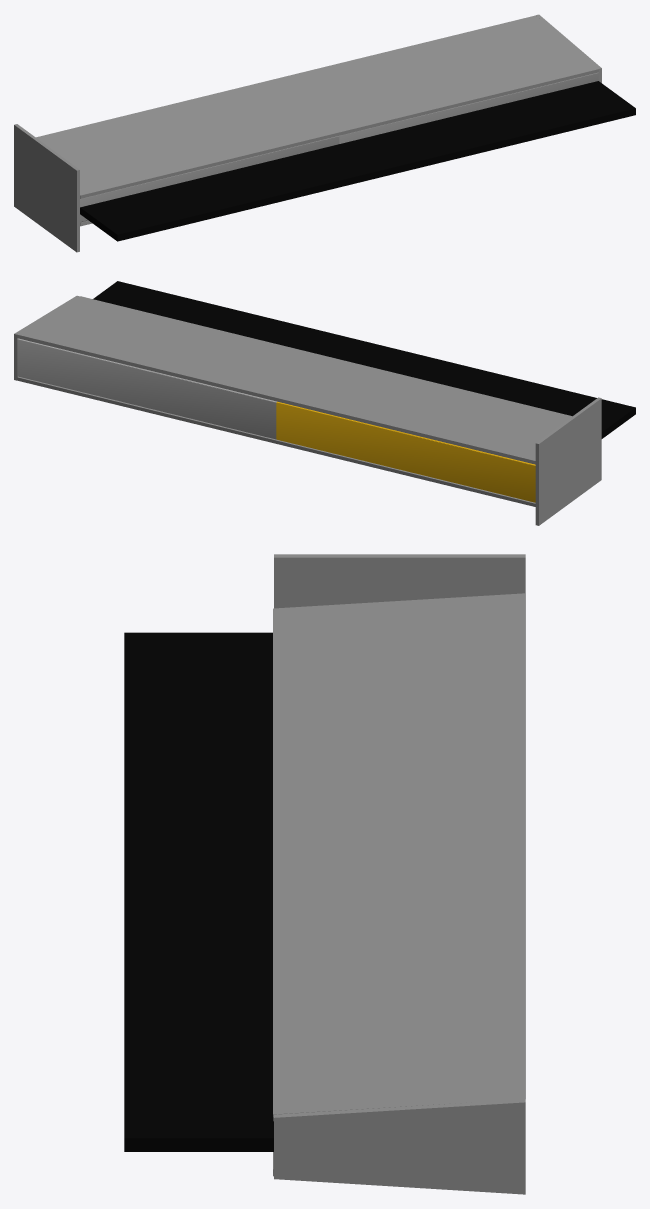
The model's file is 2026_ARC_3v3_small_barrier_right.gltf.
The picture shows the model from 3 angles, top to bottom: view 1: azimuth 30°, elevation 25°; view 2: azimuth 150°, elevation 25°; view 3: azimuth 270°, elevation 25°; orthographic projection. The views are drawn at different scales.
Parts seen in each view (by area): view 1: Small Barrier, Surface 887, Surface 944, Interior Wall Mount, Surface 945, Surface 892; view 2: Surface 887, Surface 944, Small Barrier, Surface 899, Surface 946, Interior Wall Mount, Surface 947, Surface 902, Internal Wall; view 3: Small Barrier, Surface 887, Surface 944, Internal Wall, Interior Wall Mount.
Part boxes in pixels (x1,y1,x2,y2): Small Barrier: (80,81,635,241); Surface 887: (277,15,598,135); Surface 944: (36,78,339,198); Interior Wall Mount: (14,124,79,252); Surface 945: (80,136,339,222); Surface 892: (339,72,598,143); Surface 887: (17,296,338,401); Surface 944: (276,359,572,464); Small Barrier: (93,281,635,438); Surface 899: (17,338,276,439); Surface 946: (276,401,535,502); Interior Wall Mount: (535,397,601,525); Surface 947: (276,440,535,506); Surface 902: (17,376,276,443); Internal Wall: (14,295,79,380); Small Barrier: (124,632,273,1151); Surface 887: (273,846,525,1121); Surface 944: (273,593,525,861); Internal Wall: (274,1099,525,1194); Interior Wall Mount: (274,554,525,608).
Size of the model in its own units: 2.03 by 0.3016 by 0.67.
